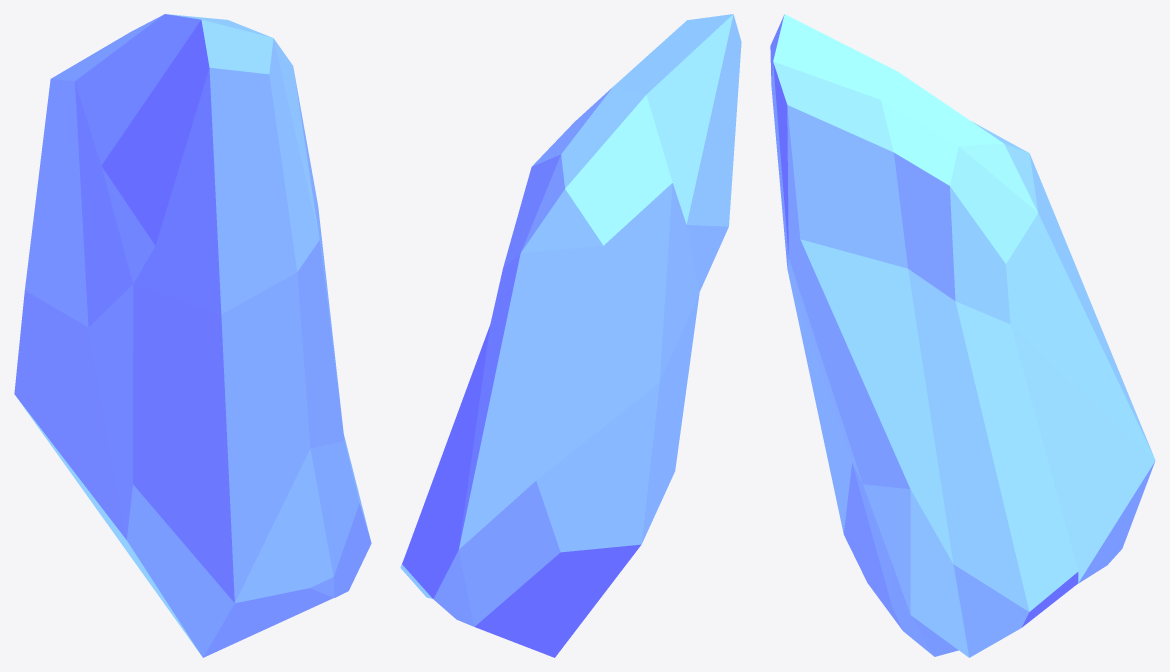
File: ROCHEAIGUE3.fbx
The picture shows the model from 3 angles, left to right: view 1: azimuth 30°, elevation 25°; view 2: azimuth 150°, elevation 25°; view 3: azimuth 270°, elevation 25°; orthographic projection. The views are drawn at different scales.
Parts seen in each view (by area): view 1: RochéAigue.3; view 2: RochéAigue.3; view 3: RochéAigue.3.
Boxes of the visible parts, x1,y1,x2,y2 form: RochéAigue.3: [14, 14, 371, 657]; RochéAigue.3: [400, 14, 741, 657]; RochéAigue.3: [770, 14, 1155, 657].
Bounding box in the file's own units: 401 × 1009 × 601.
